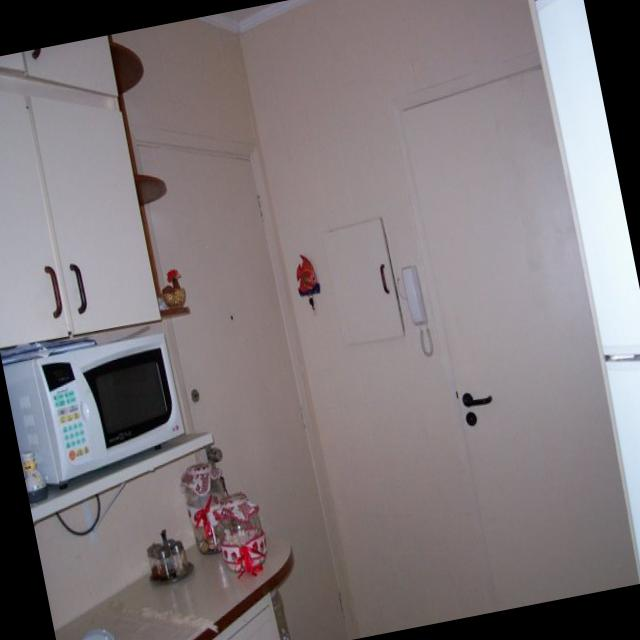Tiny Door: (323, 217, 406, 344)
cabinet door: (0, 92, 162, 349)
chord: (421, 327, 432, 357)
cookie: (217, 491, 268, 573)
counter bottom: (57, 521, 290, 640)
door bars: (402, 65, 639, 603), (142, 147, 344, 640)
door knob: (466, 391, 493, 408)
handle bar: (45, 263, 63, 318), (72, 265, 88, 311)
hinge: (259, 191, 268, 220)
microwave: (5, 332, 185, 487)
rooster: (162, 262, 190, 309)
spice jar: (158, 550, 175, 576)
spice rack: (147, 526, 194, 581)
telephone booth: (401, 264, 430, 356)
wall clock: (238, 0, 640, 637)
